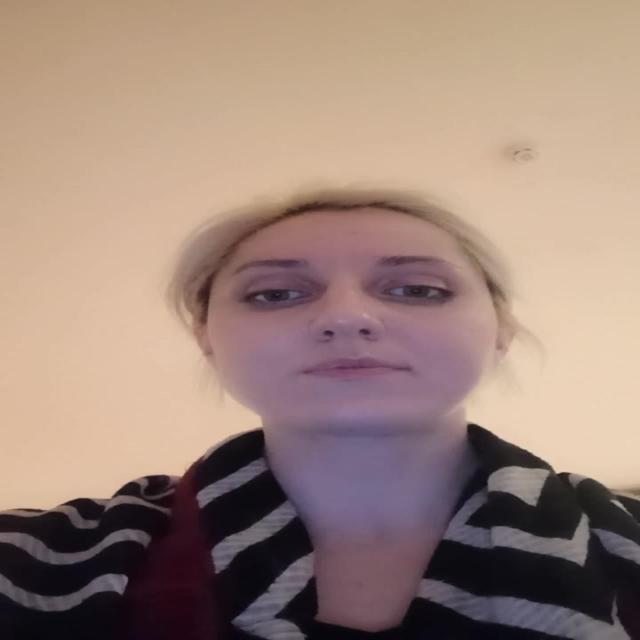eye: (382, 284, 446, 300), (244, 288, 308, 304)
nose: (309, 323, 386, 352)
